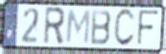2: (20, 7, 41, 45)
B: (90, 8, 113, 46)
C: (113, 8, 136, 49)
F: (136, 9, 160, 48)
M: (64, 9, 91, 46)
R: (42, 6, 66, 46)
